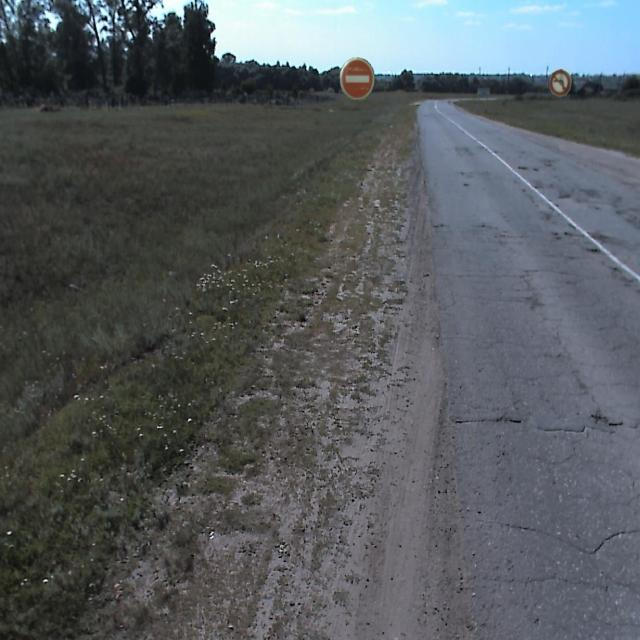road: (417, 96, 639, 639)
